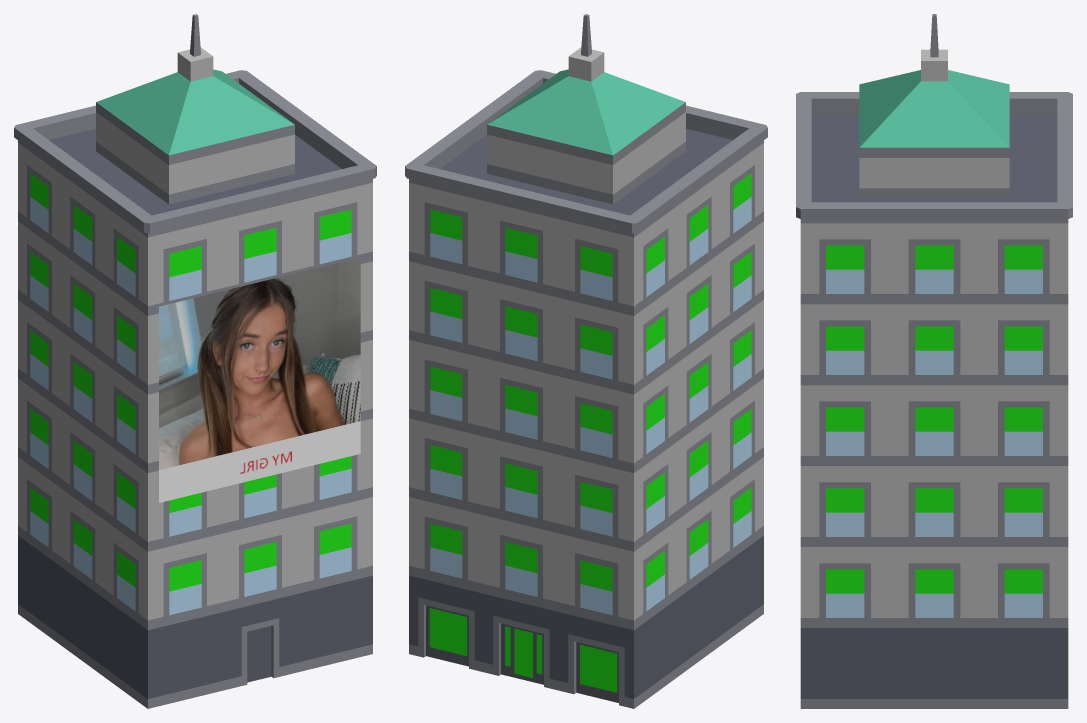
Rendered from Skyscraper.glb.
The picture shows the model from 3 angles, left to right: view 1: azimuth 30°, elevation 25°; view 2: azimuth 150°, elevation 25°; view 3: azimuth 270°, elevation 25°; orthographic projection. The views are drawn at different scales.
Visible parts, largest first — view 1: skyscraperE, jennifermygirl; view 2: skyscraperE; view 3: skyscraperE.
Part boxes in pixels (left/top/right/bottom): skyscraperE: left=14, top=14, right=376, bottom=708; jennifermygirl: left=159, top=257, right=360, bottom=502; skyscraperE: left=405, top=14, right=767, bottom=708; skyscraperE: left=796, top=14, right=1072, bottom=708.
Size of the model in its own units: 1.24 by 3.15 by 1.24.
Materials: 7 (1 with a texture image).
